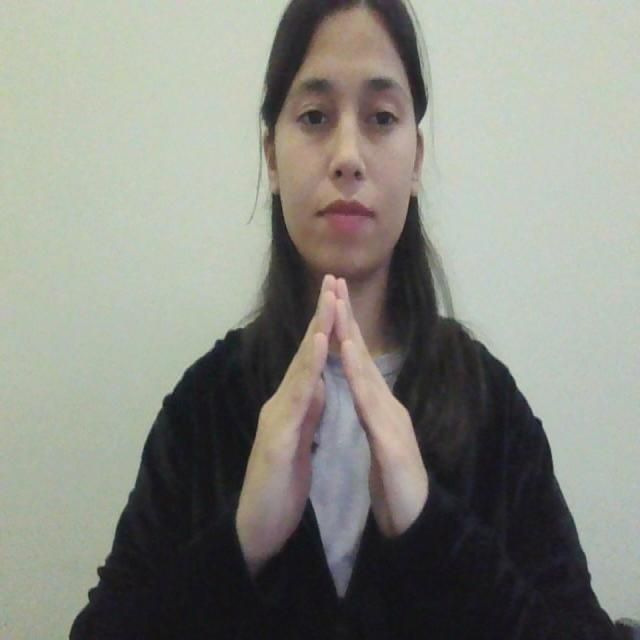Ev: (222, 267, 451, 597)
